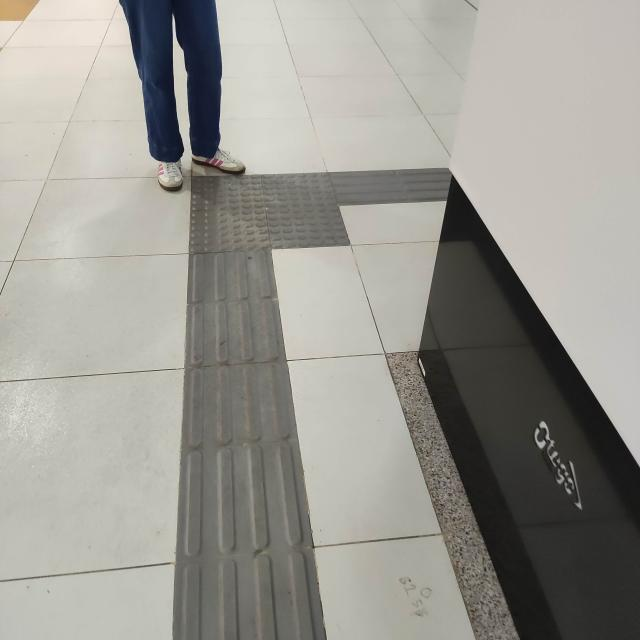kanan: (149, 142, 459, 286)
